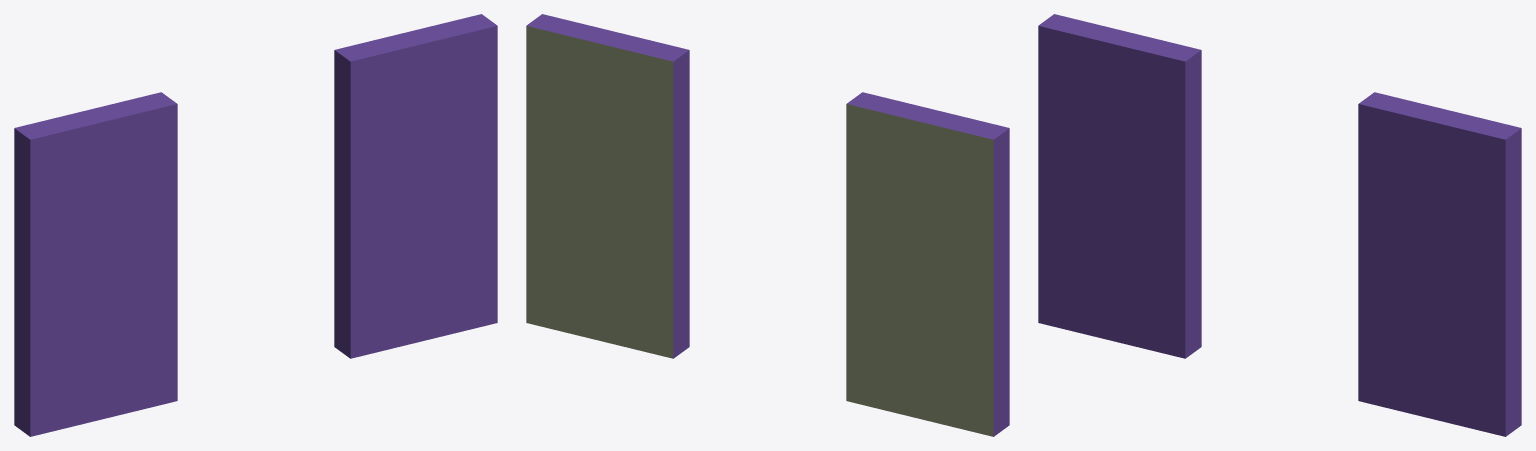
3 renders of one model, left to right at view 1: azimuth 30°, elevation 25°; view 2: azimuth 150°, elevation 25°; view 3: azimuth 330°, elevation 25°, orthographic.
Parts seen in each view (by area): view 1: Cube.002; view 2: Cube.002; view 3: Cube.002.
Part boxes in pixels (box(x1,y1,x2,y2)): Cube.002: box(14, 14, 497, 436); Cube.002: box(526, 14, 1009, 436); Cube.002: box(1038, 14, 1521, 436).
Bounding box in the file's own units: 1031 × 627 × 61.47.
